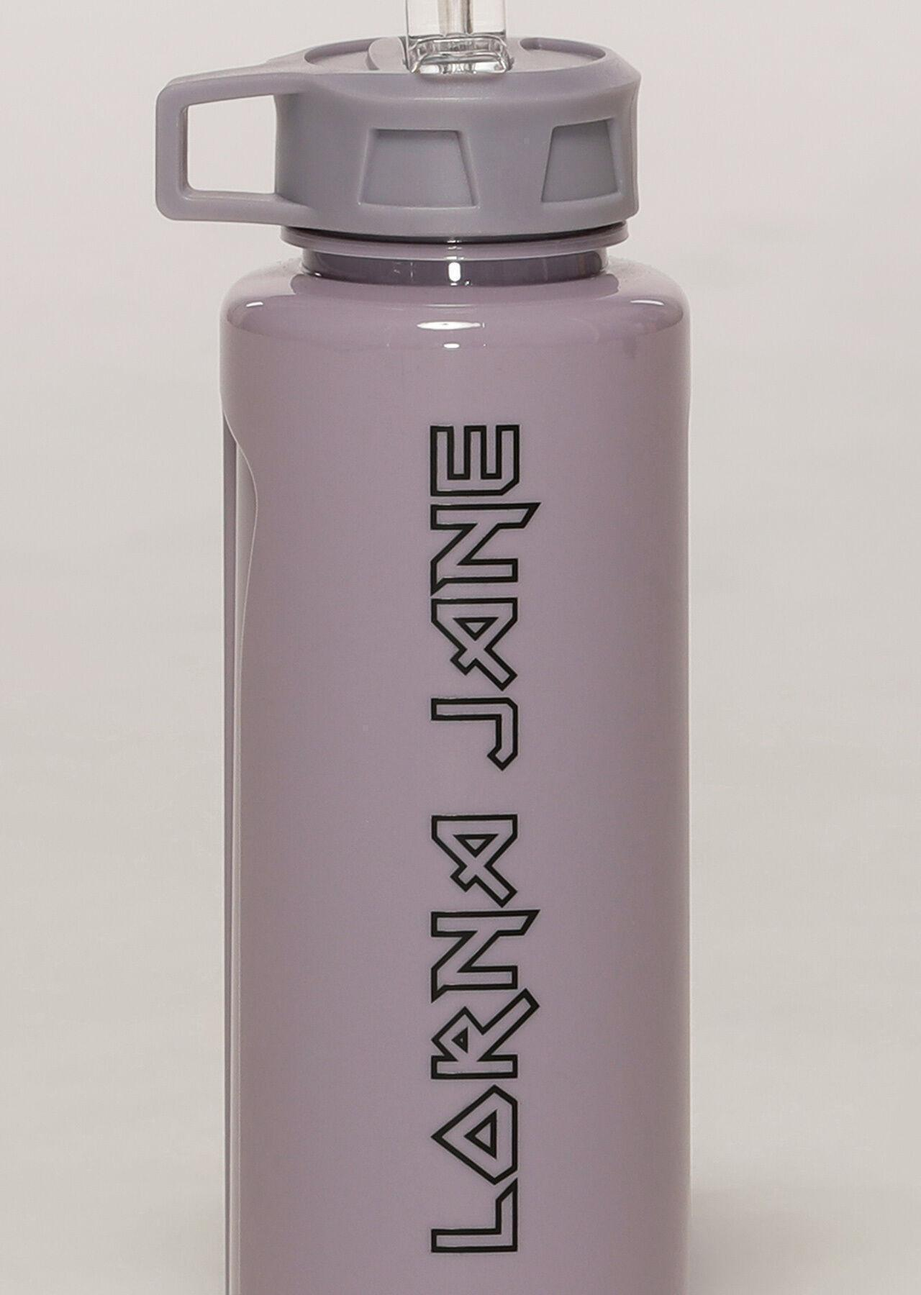gym bottle: (140, 1, 707, 1294)
